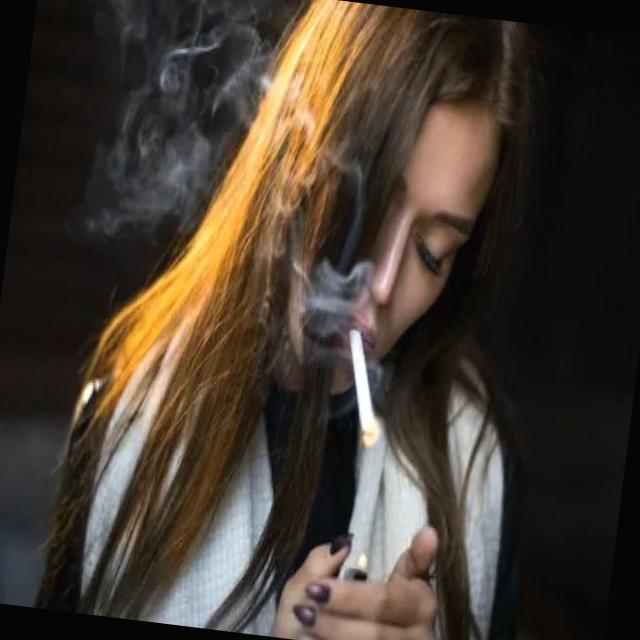cigarette: (330, 315, 393, 458)
